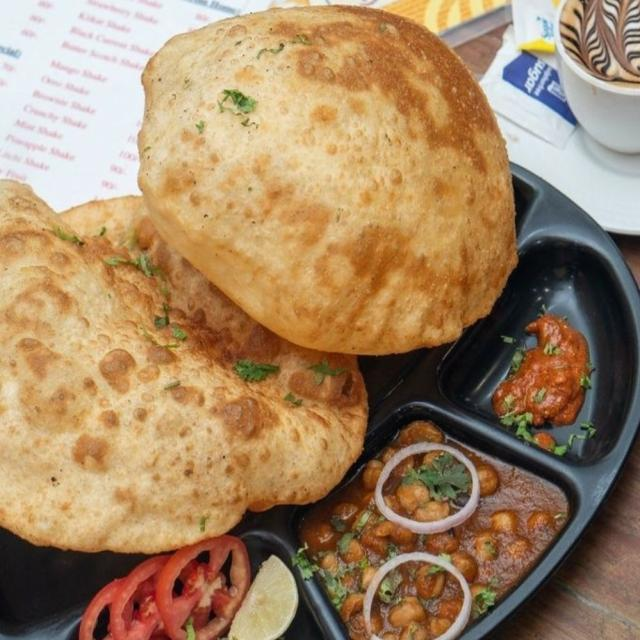Bhatura: (0, 176, 366, 555), (138, 6, 514, 356)
Chole: (302, 413, 556, 640)
